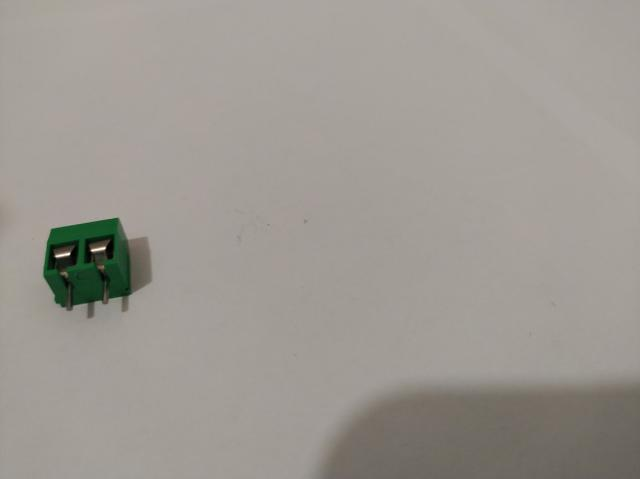terminal_block: (44, 219, 132, 311)
